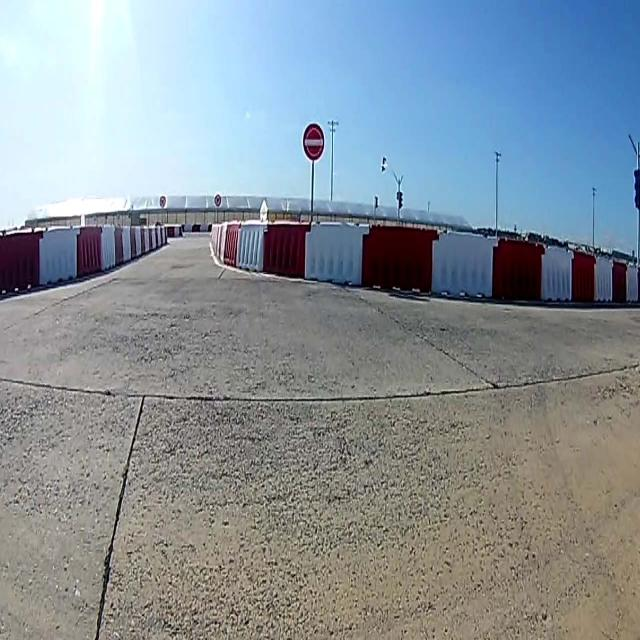girisyok: (303, 125, 324, 159)
